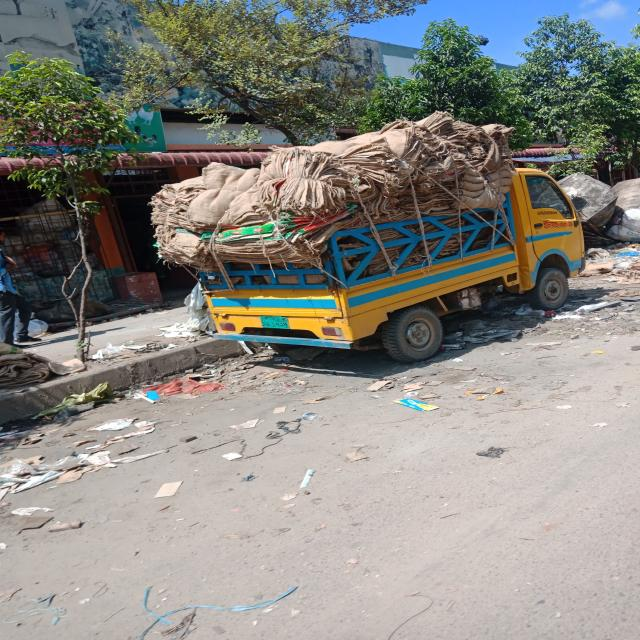pickup-van: (148, 101, 601, 384)
